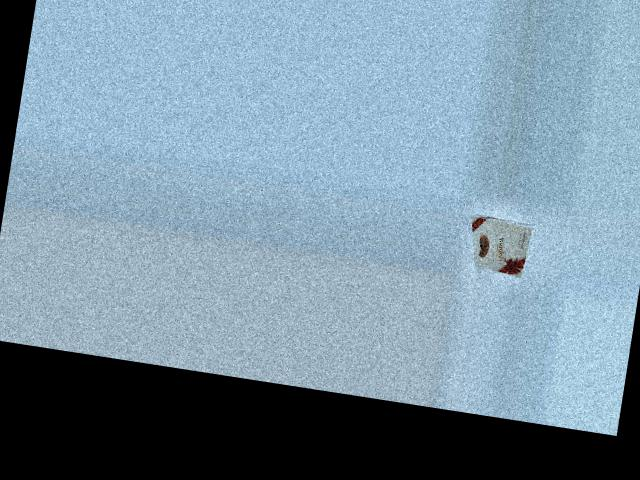chocolate: (460, 201, 533, 279)
